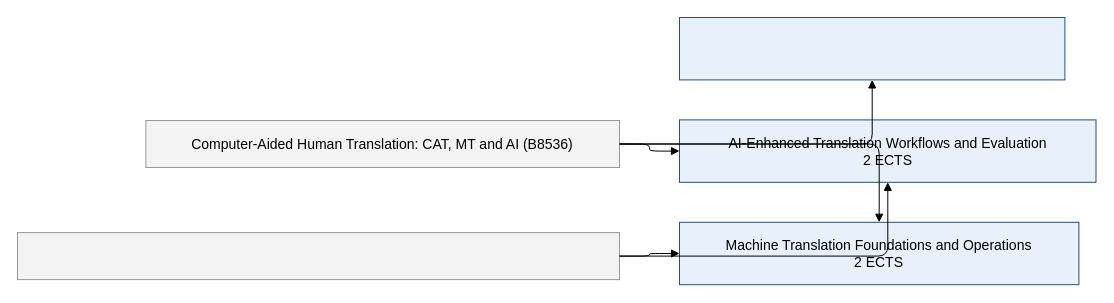
This 1114x303 diagram has some shape labels left out. Here are the shapes that lost their labels. From the top down, the box of each, then its label:
(678, 16, 1065, 80): CAT Workflows and Translation Project Quality 2 ECTS
(16, 232, 620, 280): Machine Translation and Artificial Intelligence for Language Services (B8603)
